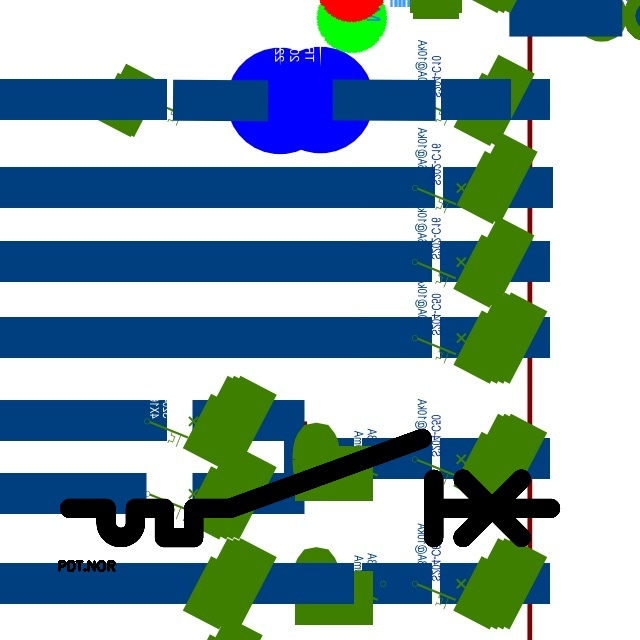interruptor_termomagnetico: (57, 426, 562, 550)
